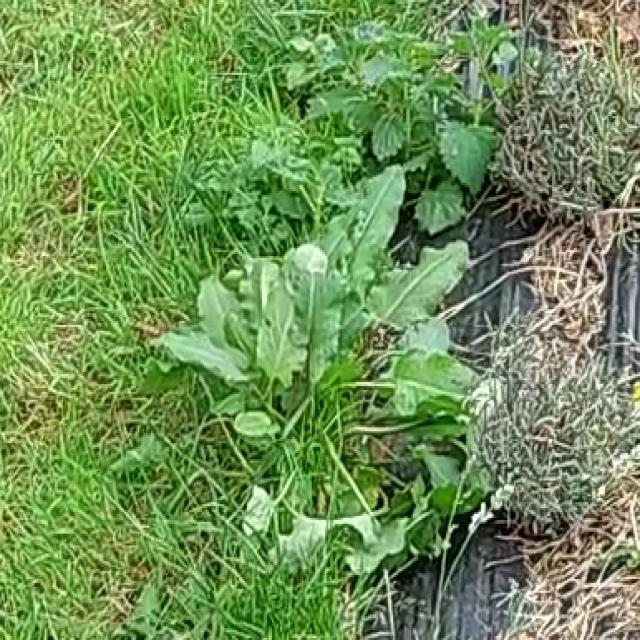organic waste: (164, 130, 512, 563)
